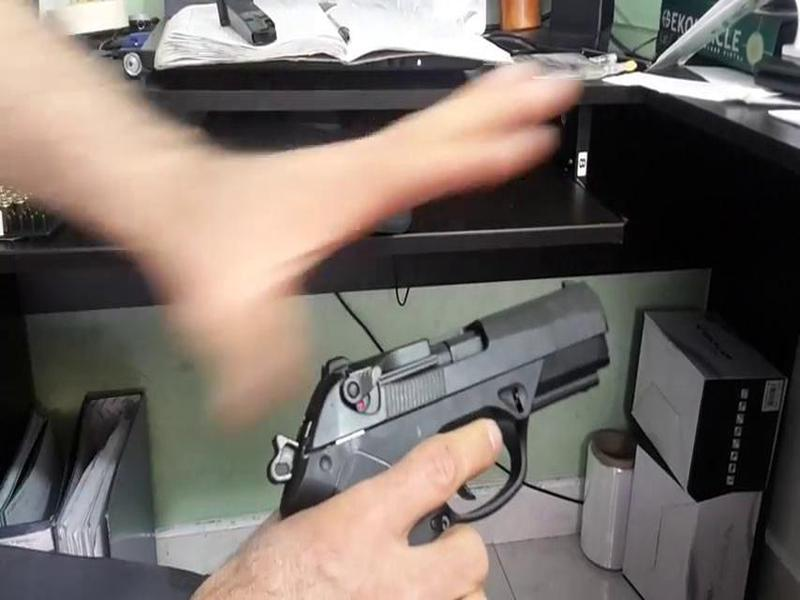Pistola: (272, 270, 614, 544)
